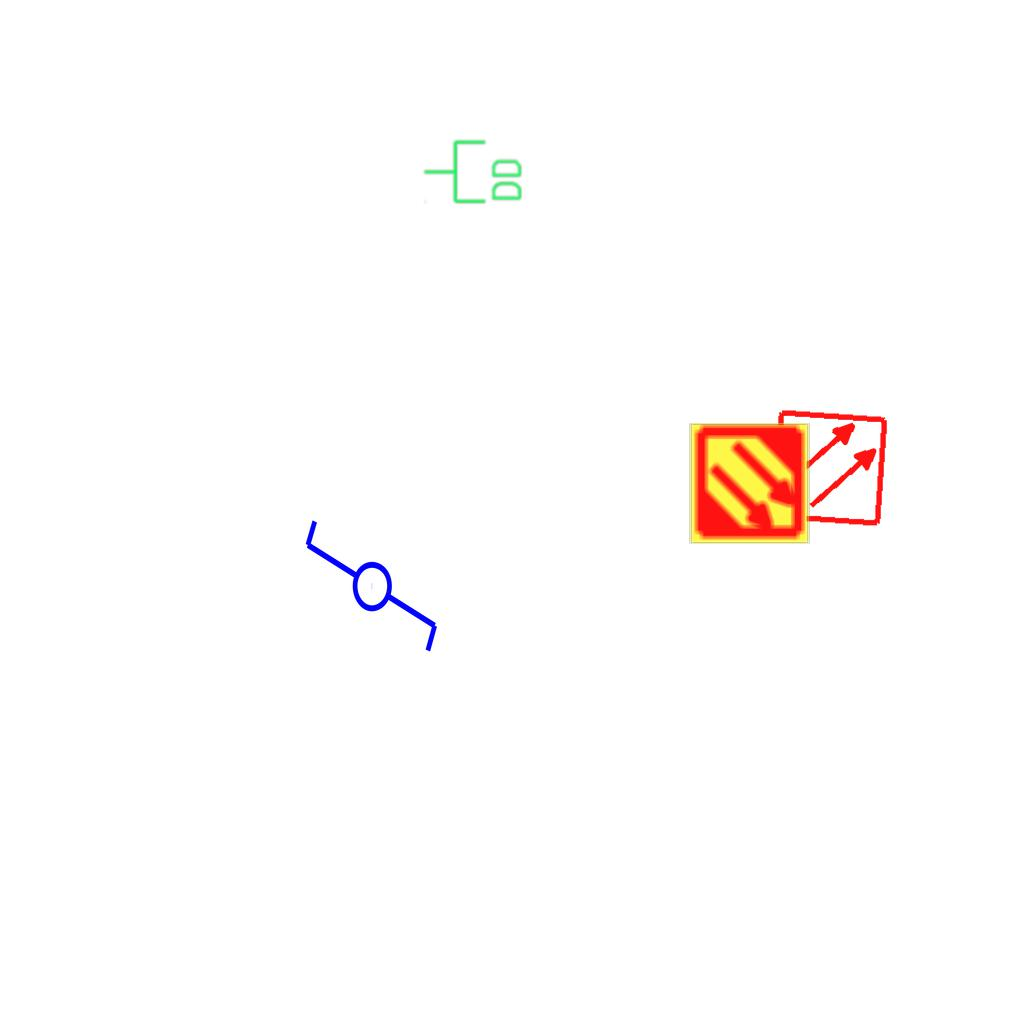ASR_Ansaugrauchmelder: (687, 421, 812, 546)
Datenanschluss_zweifach: (422, 138, 525, 207)
RMO_Rauchmelder_optischer: (769, 407, 890, 528)
Wechselschalter: (298, 516, 442, 673)
